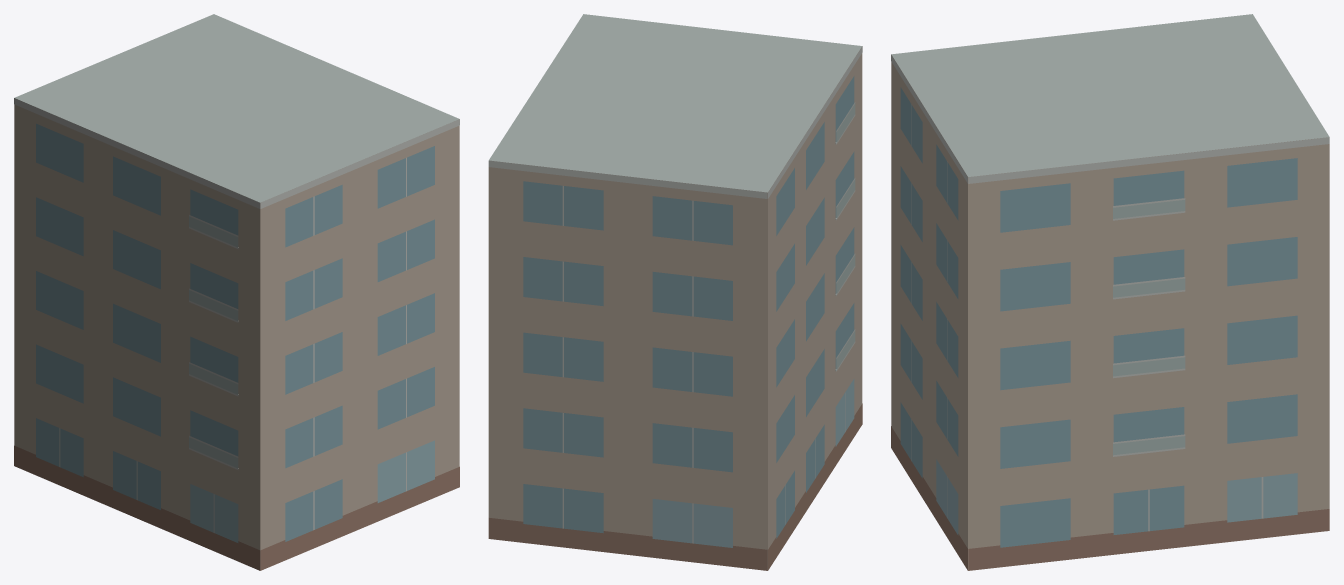
The model's file is survey-upis-32648713.glb.
3 renders of one model, left to right at view 1: azimuth 30°, elevation 25°; view 2: azimuth 150°, elevation 25°; view 3: azimuth 270°, elevation 25°, orthographic. The views are drawn at different scales.
Visible parts, largest first — view 1: survey-upis-32648713.tmp; view 2: survey-upis-32648713.tmp; view 3: survey-upis-32648713.tmp.
Part boxes in pixels (box(x1,y1,x2,y2)): survey-upis-32648713.tmp: box(14, 14, 459, 570); survey-upis-32648713.tmp: box(488, 14, 862, 570); survey-upis-32648713.tmp: box(891, 14, 1329, 570).
Size of the model in its own units: 12.41 by 13.95 by 14.09.
